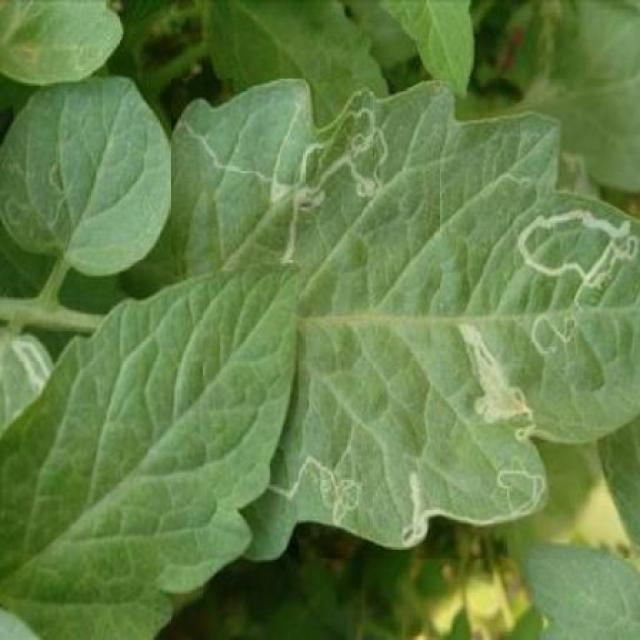Healthy: (0, 260, 299, 640)
Leaf Miner: (170, 80, 640, 560)
